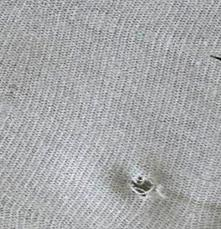hole: (123, 170, 161, 200)
